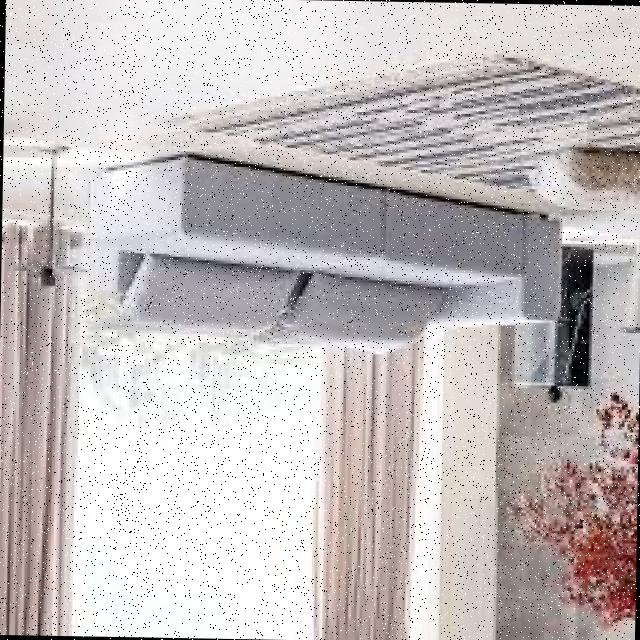Sofa: (74, 115, 580, 385)
